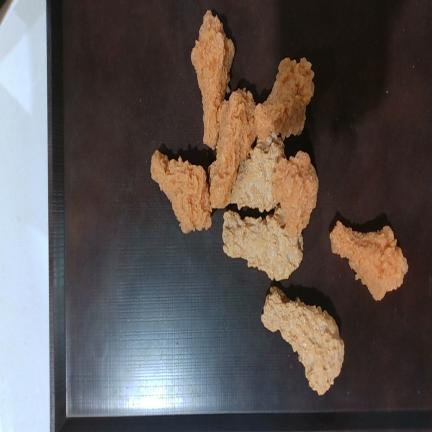chicken: (261, 286, 344, 394), (330, 221, 408, 300), (191, 10, 235, 148), (222, 209, 302, 280), (209, 89, 255, 208), (151, 150, 211, 233), (254, 58, 314, 139), (229, 138, 286, 212), (272, 151, 318, 236)
